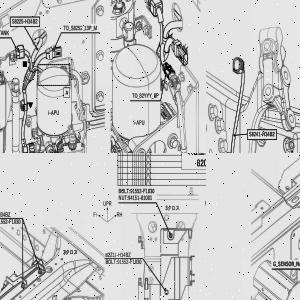PartNumber: (11, 18, 38, 25), (105, 251, 131, 258), (130, 188, 155, 195), (128, 194, 152, 201), (249, 131, 275, 137), (118, 259, 142, 265), (0, 218, 21, 224), (0, 211, 11, 217)
